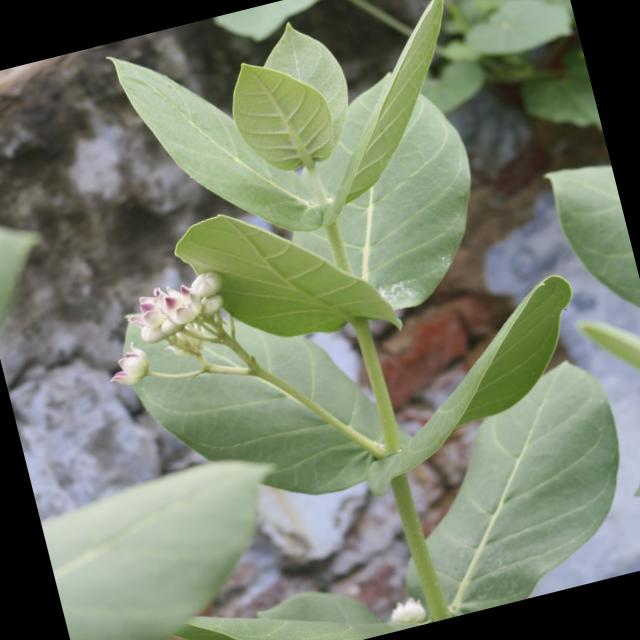Poisonous-Calatropis: (70, 176, 640, 640), (100, 0, 541, 418)
